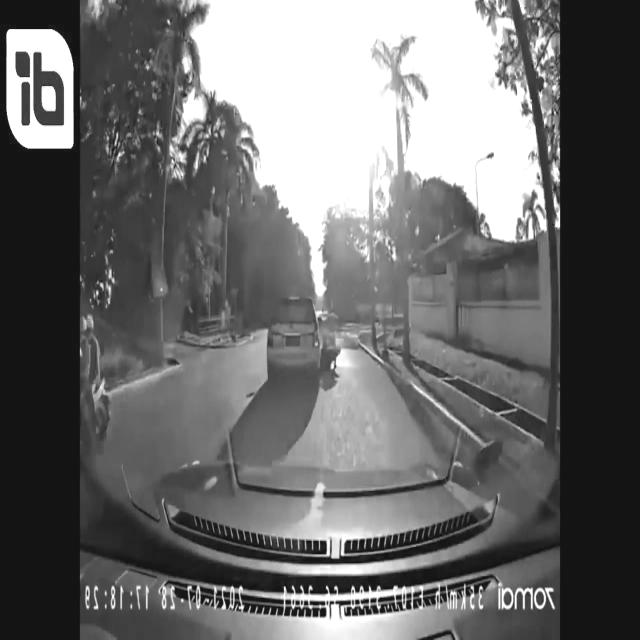accident: (266, 296, 342, 386)
